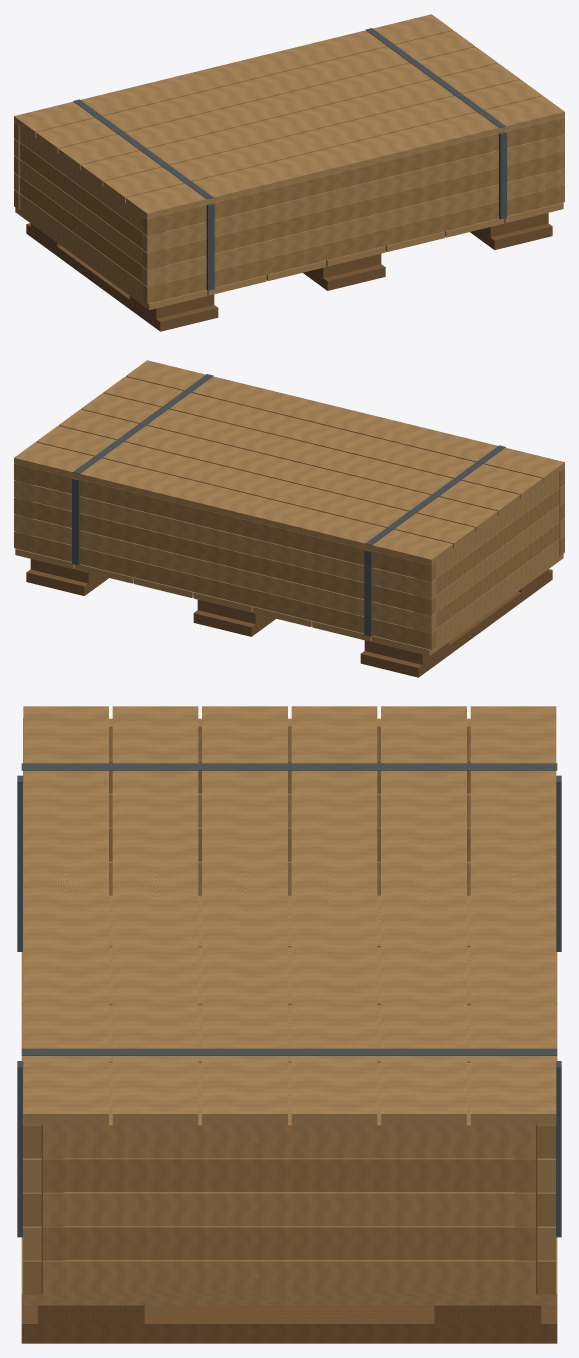
Rendered from wooden-crate.glb.
3 views of the same model, one above another, from view 1: azimuth 30°, elevation 25°; view 2: azimuth 150°, elevation 25°; view 3: azimuth 270°, elevation 25° (orthographic). The views are drawn at different scales.
Visible parts, largest first — view 1: wooden-crate-single-woodLight, wooden-crate-single-woodMedium, wooden-crate-single-woodDark, wooden-crate-single-steelBand; view 2: wooden-crate-single-woodLight, wooden-crate-single-woodMedium, wooden-crate-single-woodDark, wooden-crate-single-steelBand; view 3: wooden-crate-single-woodLight, wooden-crate-single-woodMedium, wooden-crate-single-woodDark, wooden-crate-single-steelBand.
Boxes of the visible parts, <box> form: wooden-crate-single-woodLight: <box>14,14,564,309</box>; wooden-crate-single-woodMedium: <box>14,117,564,303</box>; wooden-crate-single-woodDark: <box>26,134,562,331</box>; wooden-crate-single-steelBand: <box>73,28,506,290</box>; wooden-crate-single-woodLight: <box>14,360,564,655</box>; wooden-crate-single-woodMedium: <box>14,463,564,649</box>; wooden-crate-single-woodDark: <box>16,480,552,677</box>; wooden-crate-single-steelBand: <box>72,374,505,636</box>; wooden-crate-single-woodLight: <box>21,706,557,1305</box>; wooden-crate-single-woodMedium: <box>23,718,555,1294</box>; wooden-crate-single-woodDark: <box>21,1125,557,1343</box>; wooden-crate-single-steelBand: <box>17,763,561,1237</box>.
Bounding box in the file's own units: 1.8 × 0.5 × 1.02.
4 materials, 3 textured.
